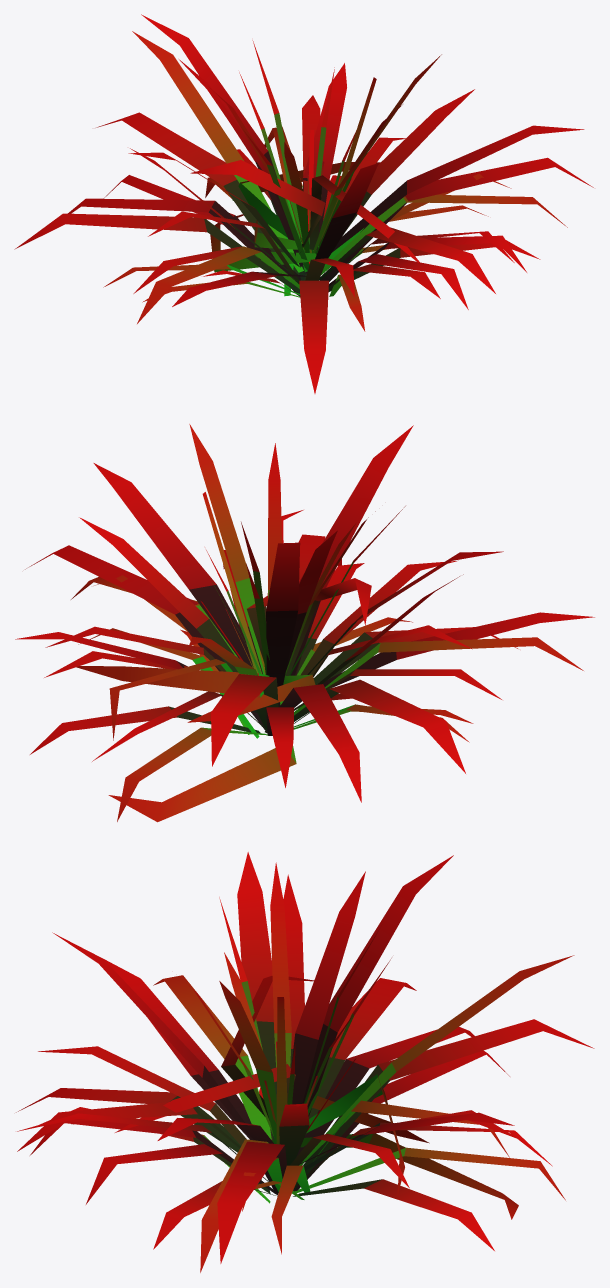
Rendered from Ribbon Plant_LOD4_Var2_rhDrj.fbx.
The picture shows the model from 3 angles, top to bottom: view 1: azimuth 30°, elevation 25°; view 2: azimuth 150°, elevation 25°; view 3: azimuth 270°, elevation 25°; orthographic projection. The views are drawn at different scales.
Parts seen in each view (by area): view 1: _1301_Var2_LOD4; view 2: _1301_Var2_LOD4; view 3: _1301_Var2_LOD4.
Part boxes in pixels (<box>): _1301_Var2_LOD4: <box>14,14,593,393</box>; _1301_Var2_LOD4: <box>15,424,594,822</box>; _1301_Var2_LOD4: <box>16,852,594,1272</box>.
Bounding box in the file's own units: 53.64 × 26.8 × 47.7.
